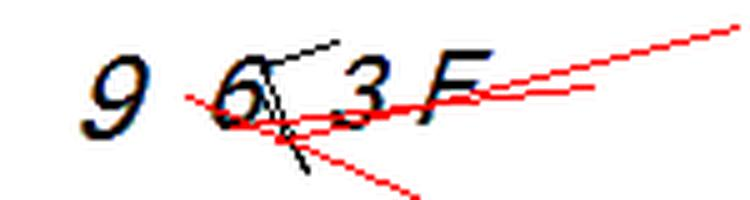3: (323, 49, 397, 136)
6: (205, 47, 282, 139)
9: (74, 50, 158, 147)
F: (410, 41, 499, 130)
